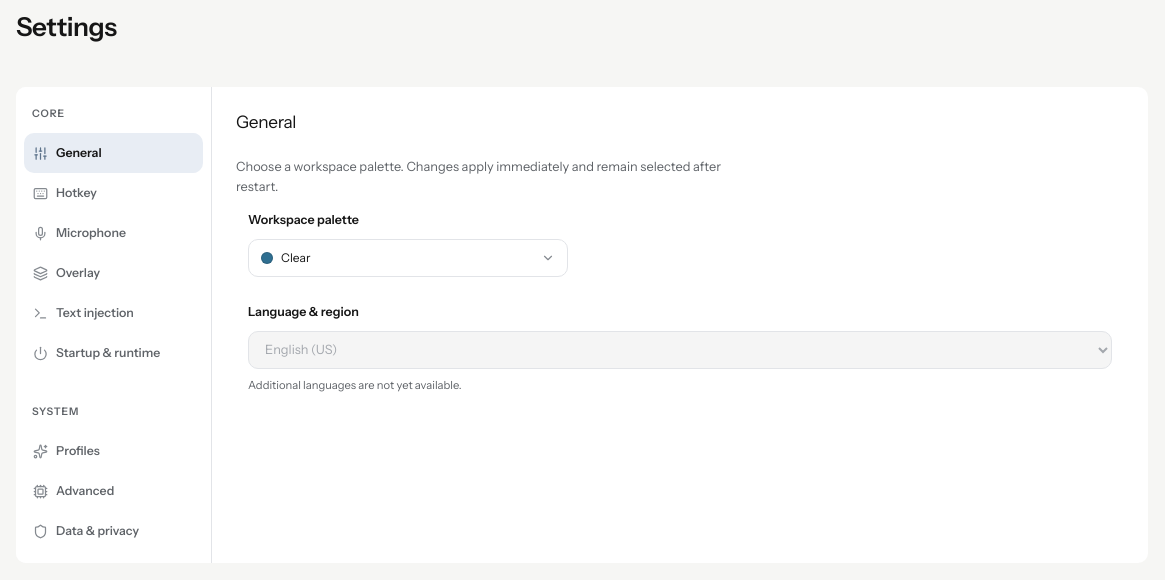
Test: theme picker rendered behavior › keeps listbox semantics, selected option, and checkmark mounted
Click the button with class "theme-picker__trigger": (267, 258) [248,239,568,277]
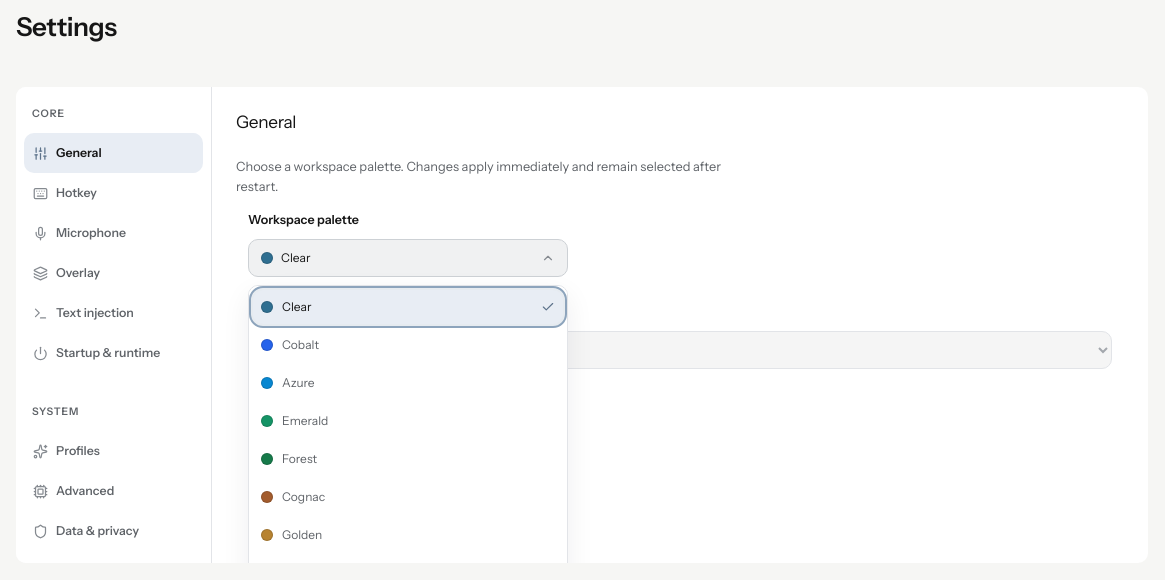
Check: the icon with class "theme-picker__check" is shown, box [541,300,555,314]
